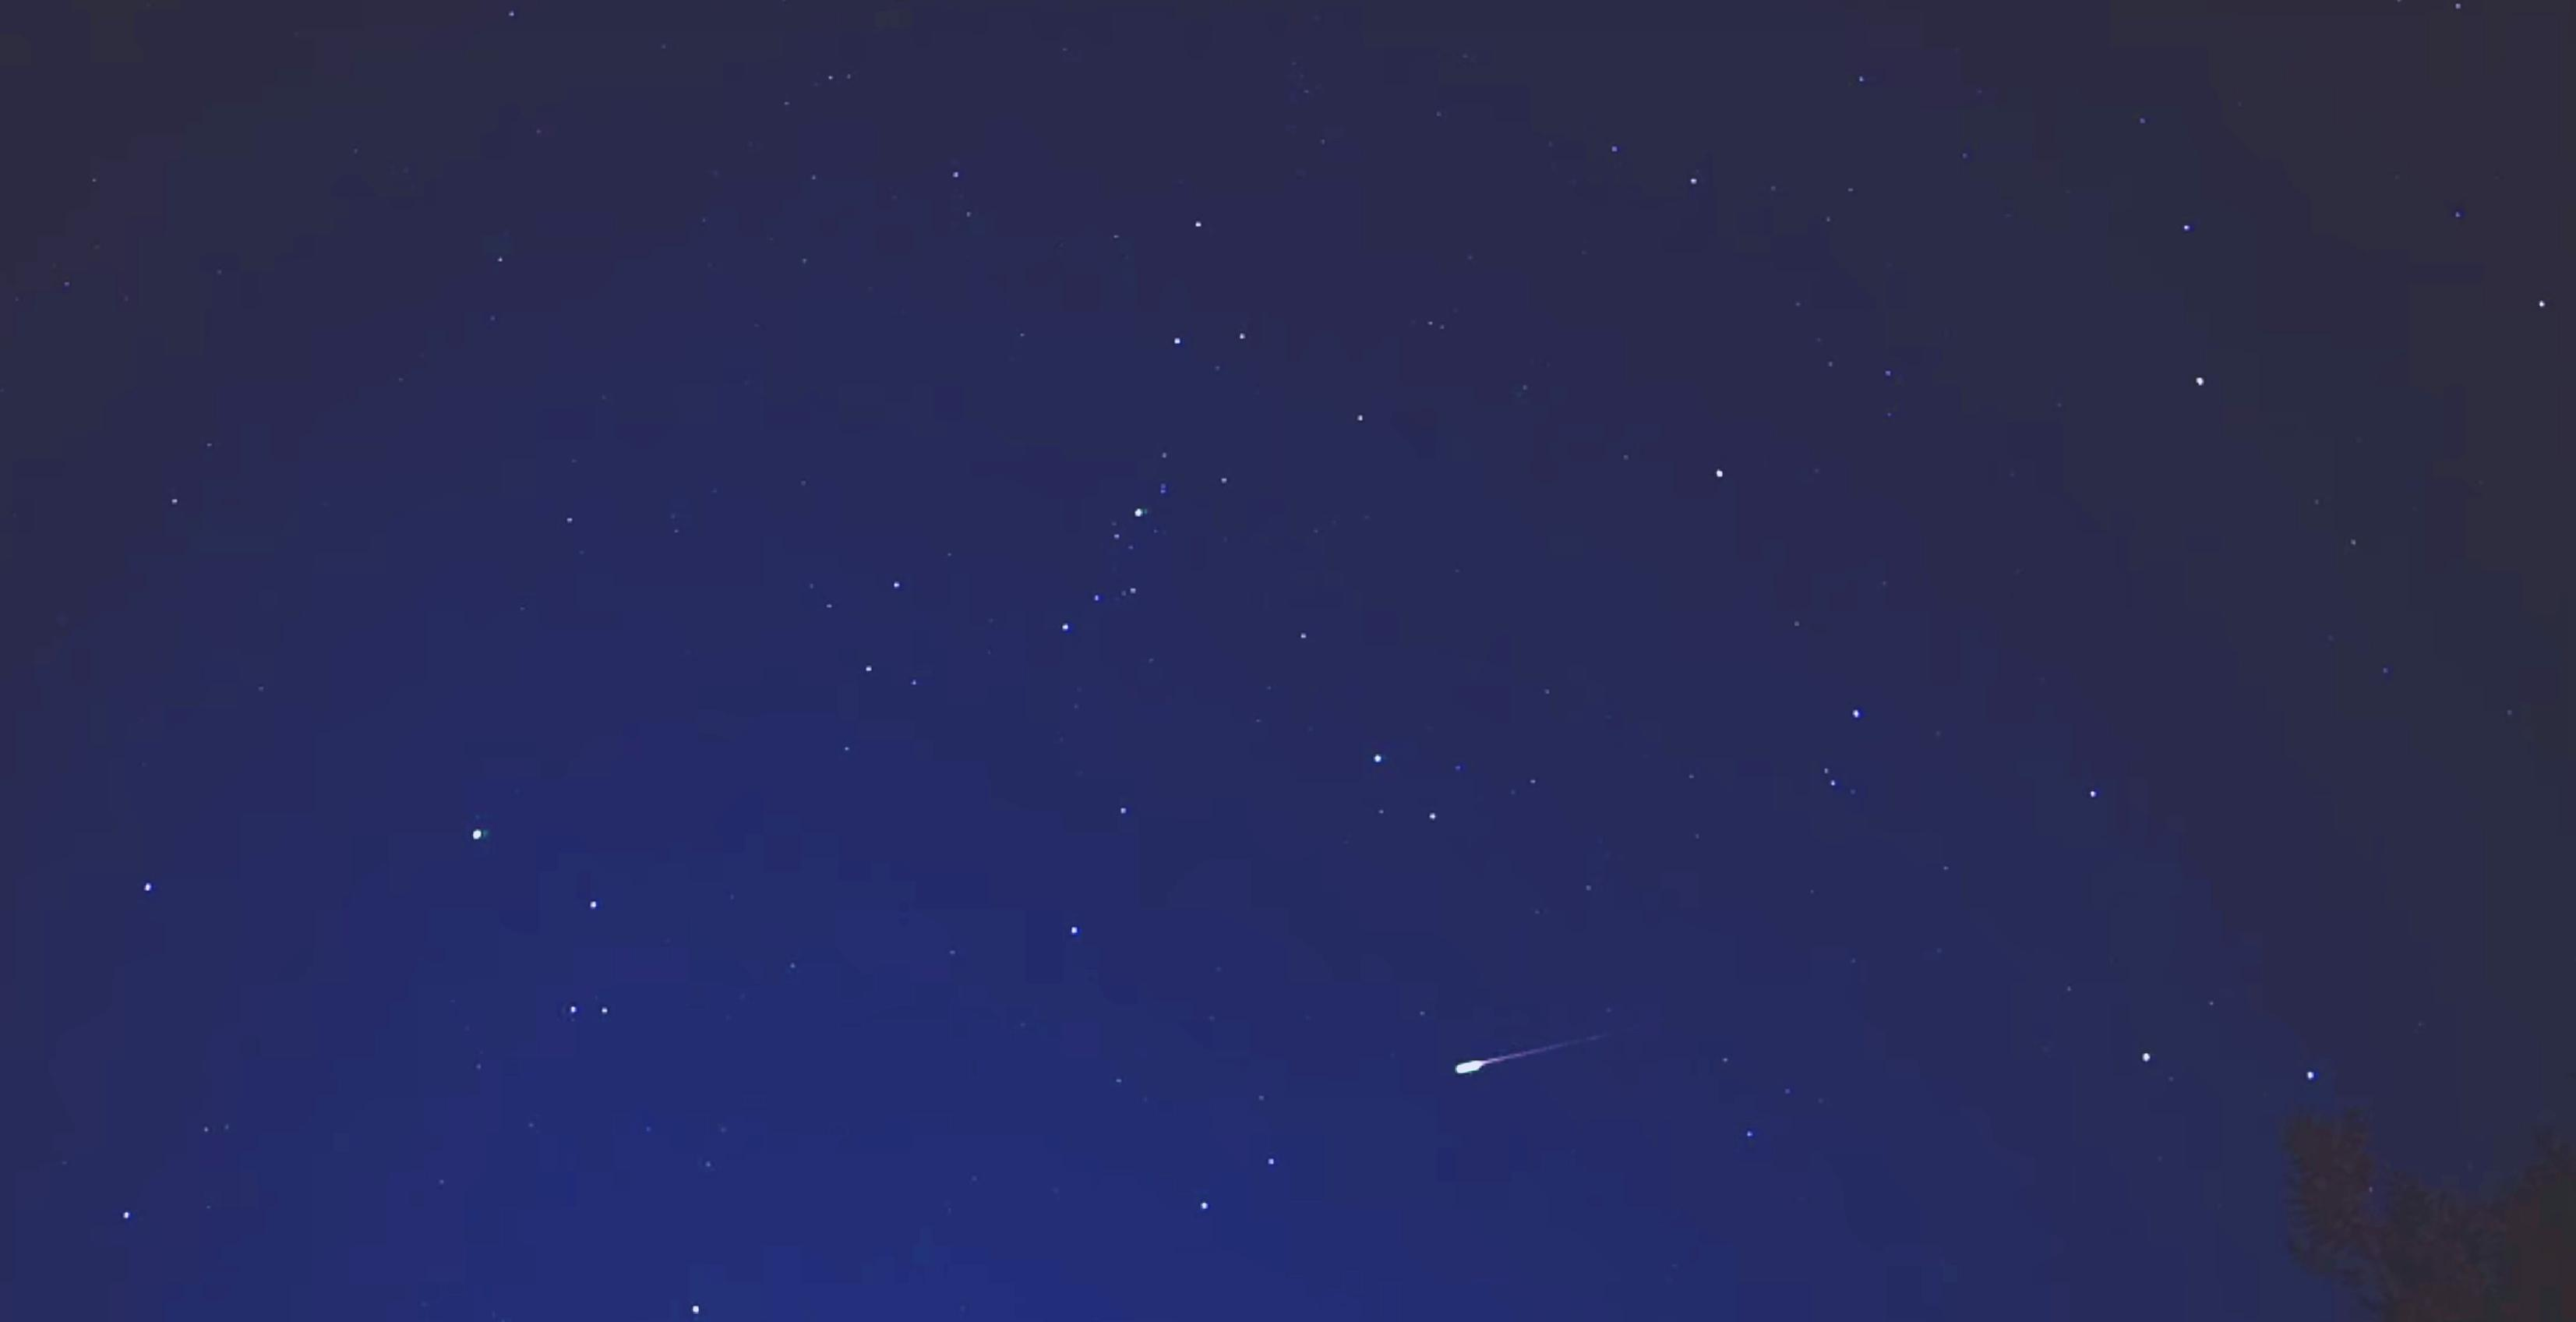meteorite: (1398, 1007, 1676, 1091)
